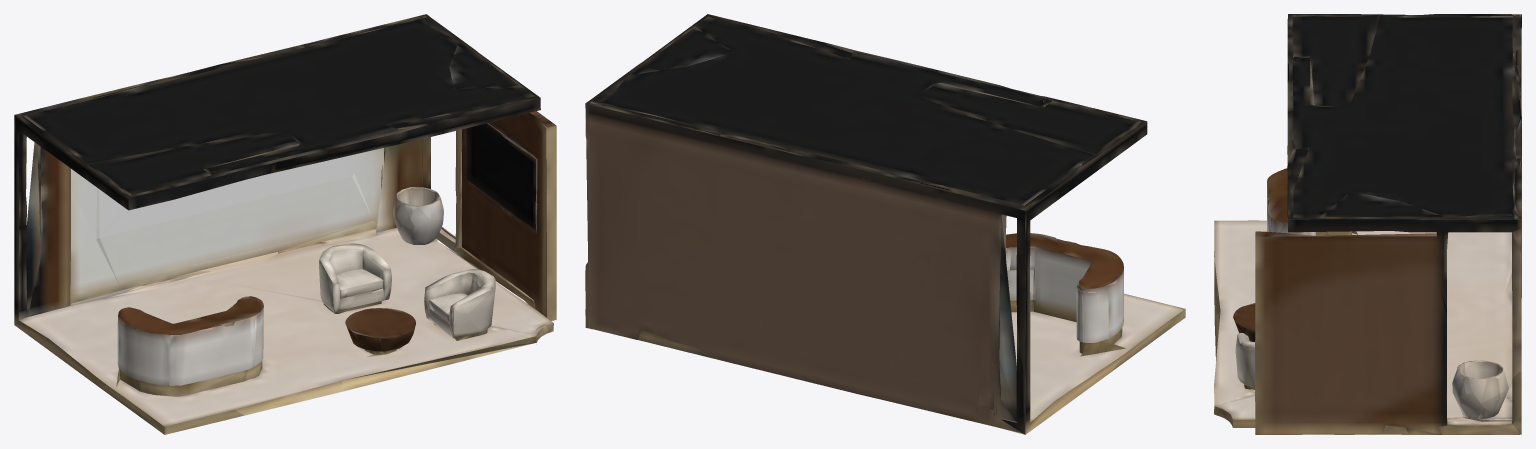
File: booth_lux.glb
3 renders of one model, left to right at view 1: azimuth 30°, elevation 25°; view 2: azimuth 150°, elevation 25°; view 3: azimuth 270°, elevation 25°, orthographic. The views are drawn at different scales.
Visible parts, largest first — view 1: LO; view 2: LO; view 3: LO.
Part boxes in pixels (box(x1,y1,x2,y2)): LO: box(14, 14, 556, 434); LO: box(585, 14, 1185, 434); LO: box(1214, 14, 1521, 434).
Size of the model in its own units: 8 by 3.91 by 5.05.
Materials: 1 (1 with a texture image).
